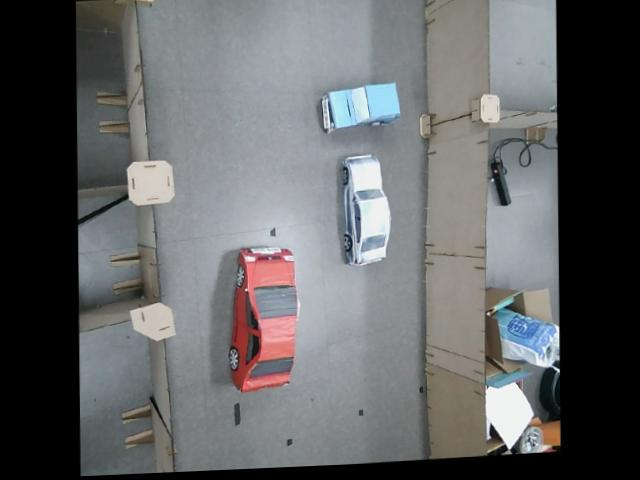car: (227, 244, 301, 393), (340, 152, 391, 266), (321, 81, 401, 131)
